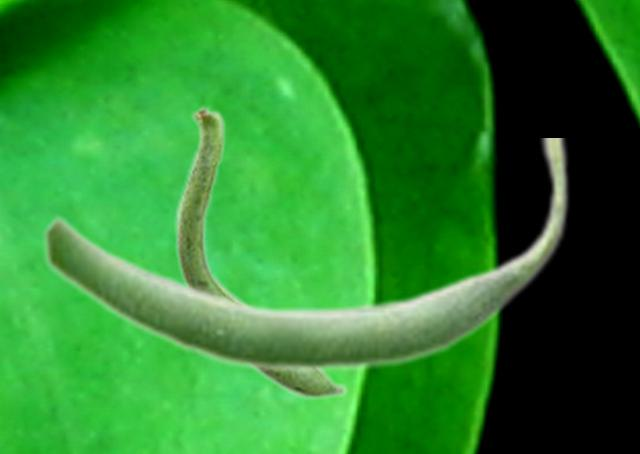french_bean: (41, 138, 570, 375), (174, 103, 347, 400)
